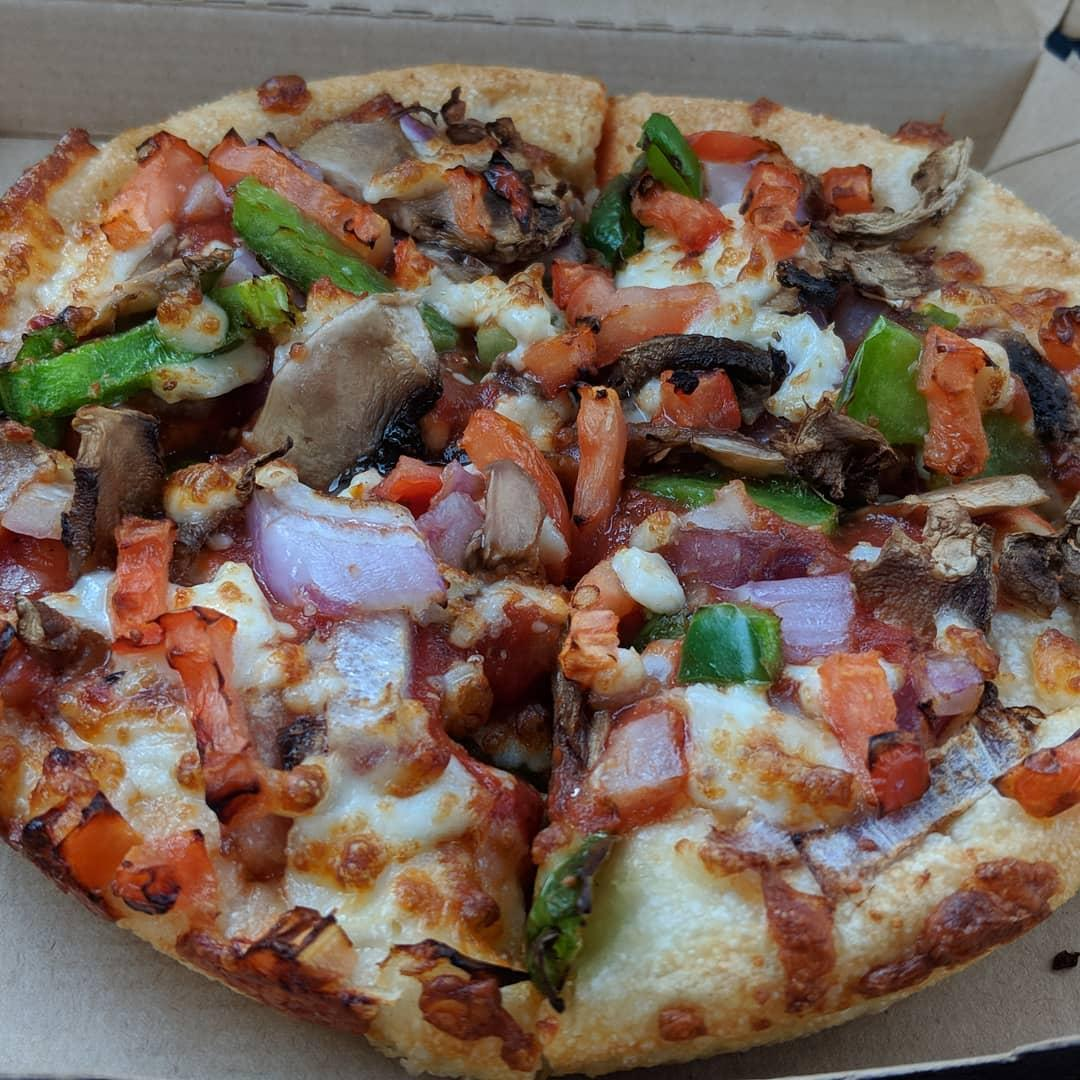Mushroom: (244, 296, 436, 471), (862, 505, 998, 648), (820, 132, 978, 244), (69, 404, 162, 552), (776, 243, 940, 318), (998, 472, 1080, 619), (604, 329, 793, 379)
Onion: (245, 471, 445, 625), (738, 572, 863, 662), (321, 625, 418, 732), (909, 649, 989, 722)
Peppers: (0, 273, 296, 425), (523, 827, 610, 1011), (233, 178, 365, 272), (838, 318, 929, 453), (677, 605, 791, 692), (643, 110, 703, 195), (584, 173, 643, 259)
Pizza: (0, 0, 1080, 1080)
Tomatoes: (214, 124, 398, 272), (173, 610, 263, 817), (466, 407, 570, 557), (100, 130, 192, 253), (928, 325, 992, 482), (569, 381, 634, 534), (111, 514, 172, 626)
